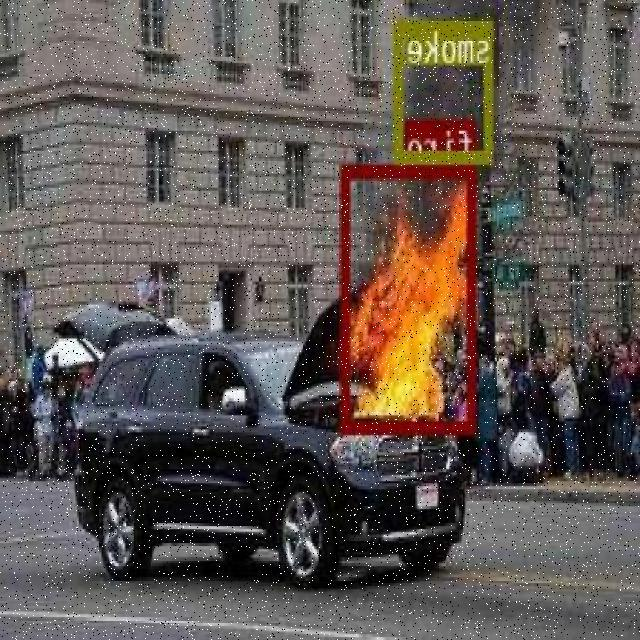smoke: (395, 18, 494, 162)
